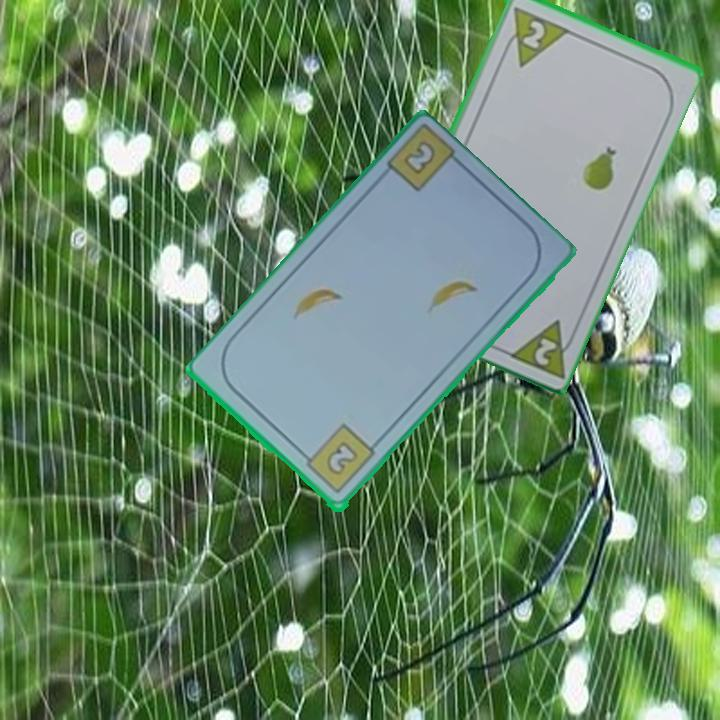2b: (297, 421, 378, 498), (399, 137, 439, 179)
2p: (502, 314, 581, 381), (518, 16, 548, 52)
